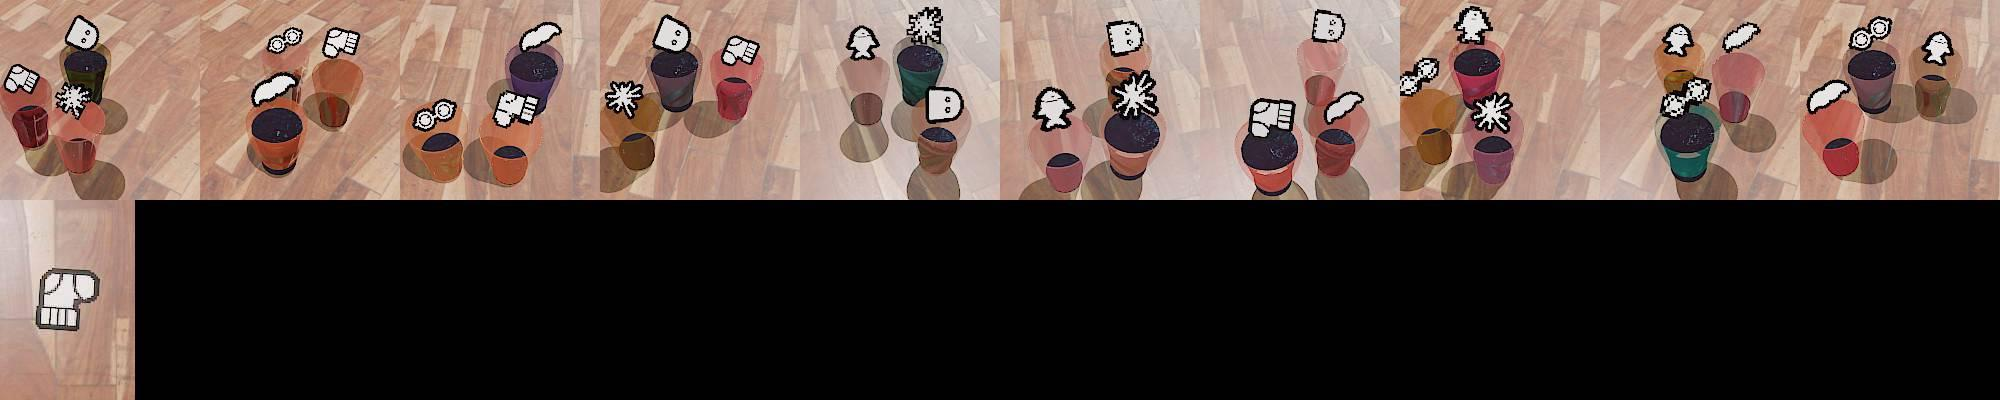icon: (31, 266, 103, 332), (1111, 70, 1159, 121), (1658, 76, 1713, 120), (1468, 90, 1514, 134), (1032, 87, 1075, 131), (250, 70, 302, 107), (1247, 97, 1295, 138), (491, 90, 540, 129), (651, 13, 693, 55), (1848, 15, 1894, 52), (603, 79, 644, 118), (906, 5, 944, 47), (1806, 78, 1851, 113), (413, 98, 458, 134), (1454, 5, 1494, 45), (1106, 19, 1145, 57), (54, 82, 93, 120), (925, 85, 963, 124), (1401, 57, 1439, 96), (1323, 89, 1365, 124), (519, 22, 562, 54), (1719, 20, 1760, 54), (721, 34, 760, 68), (1920, 31, 1955, 66), (846, 24, 880, 61), (1659, 22, 1694, 57), (65, 15, 99, 51), (323, 27, 360, 60), (1311, 9, 1344, 43), (4, 64, 41, 94), (267, 27, 304, 55)
